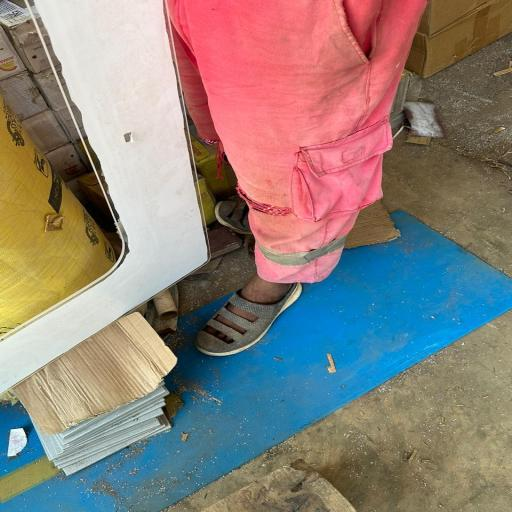not_safety_shoe: (188, 269, 313, 363)
